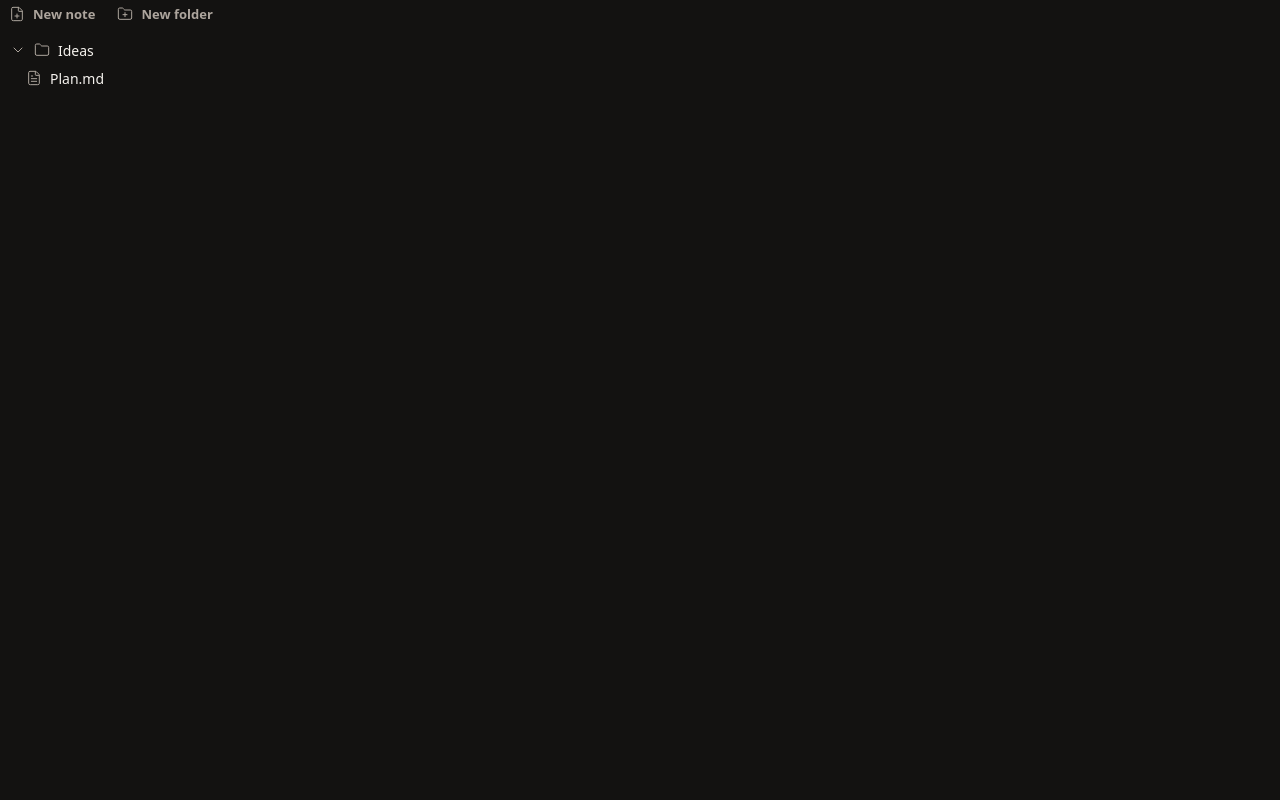
Test case: a filtered tree still counts and moves by the whole project
The width and height of the screenshot is (1280, 800).
Expected: the link "Plan.md" is shown, x1=26 y1=68 x2=104 y2=88
Click the button "Ideas" at (76, 50), box x1=0 y1=36 x2=1252 y2=64
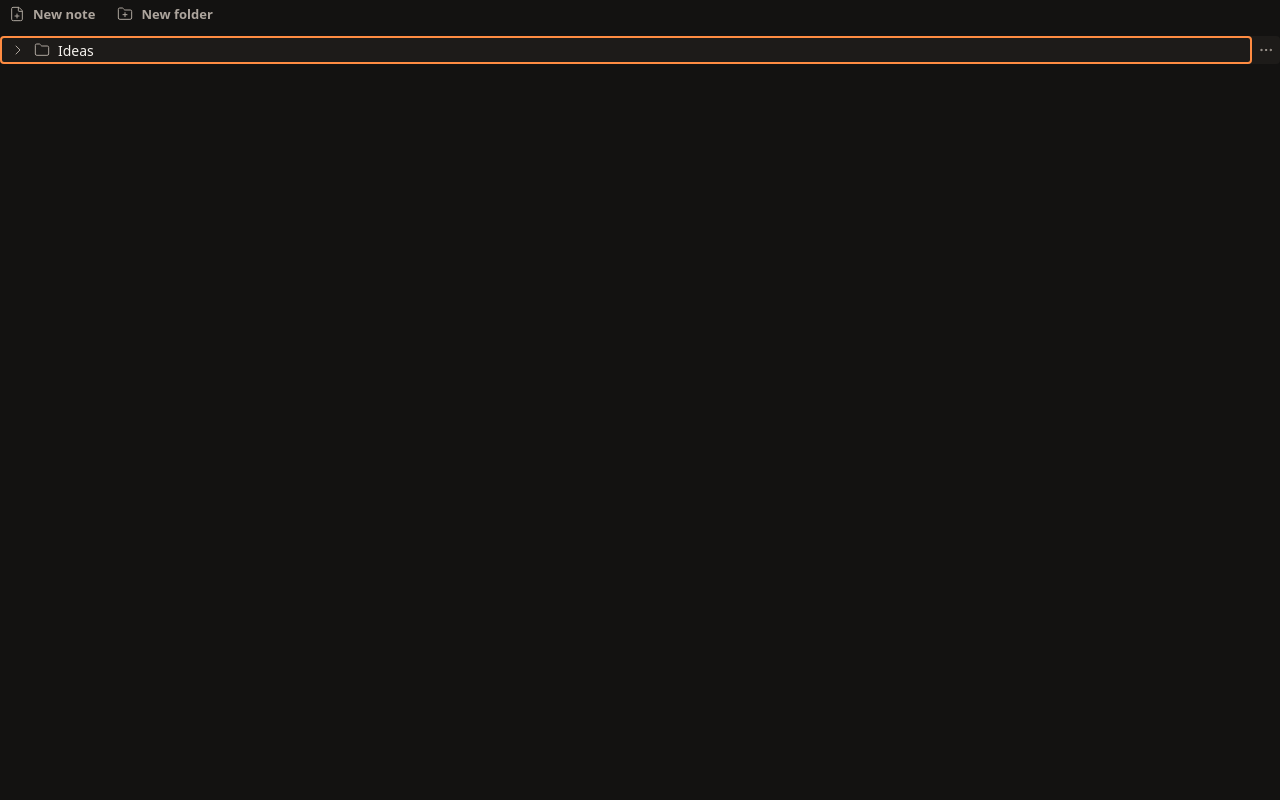
Expected: the link "Plan.md" is gone
Press Delete in the button "Ideas", box x1=0 y1=36 x2=1252 y2=64
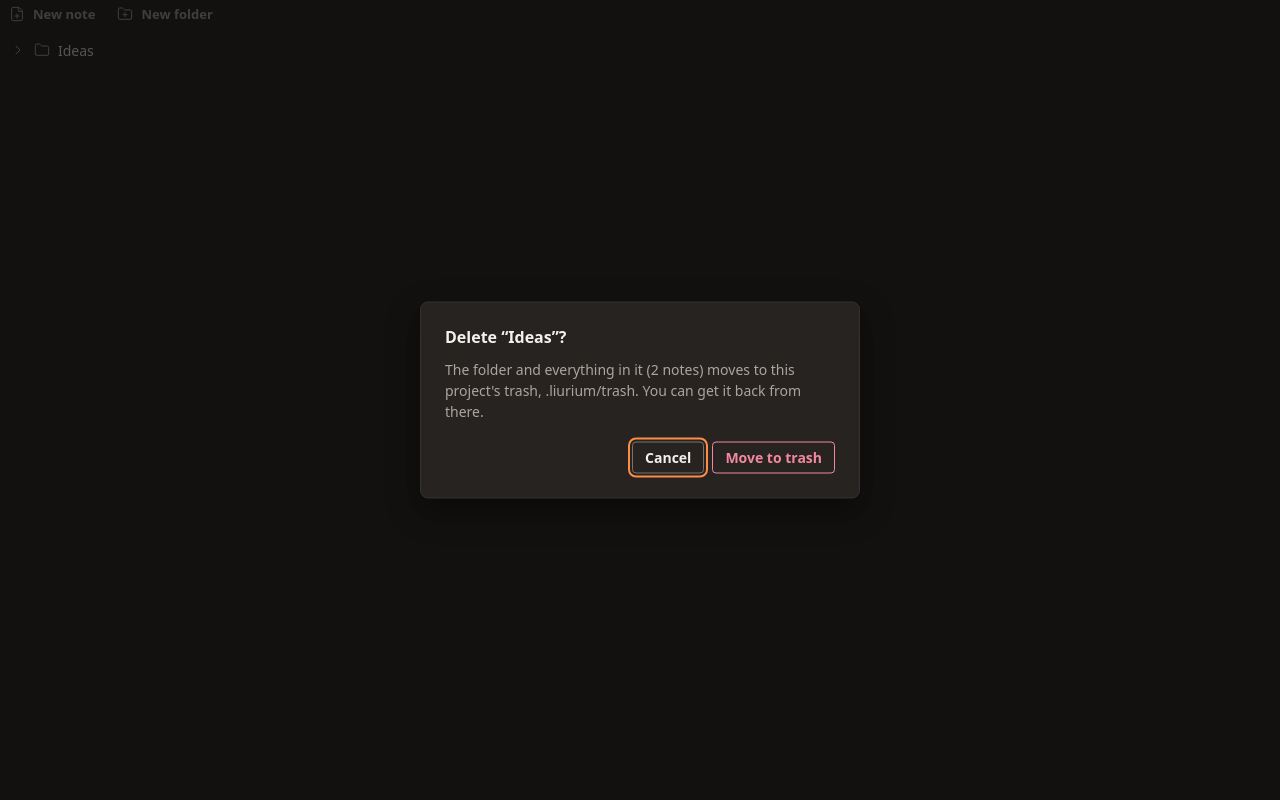
Expected: the dialog "Delete “Ideas”?" shows "(2 notes)", x1=445 y1=360 x2=801 y2=420
